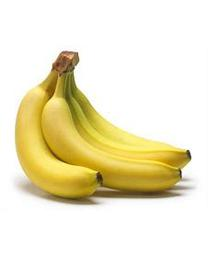banana: (14, 50, 190, 198)
